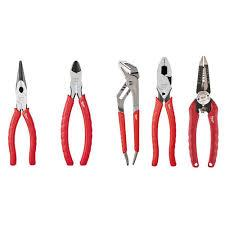pliers: (59, 59, 92, 166), (150, 55, 178, 167), (7, 59, 36, 165), (114, 59, 139, 165)
